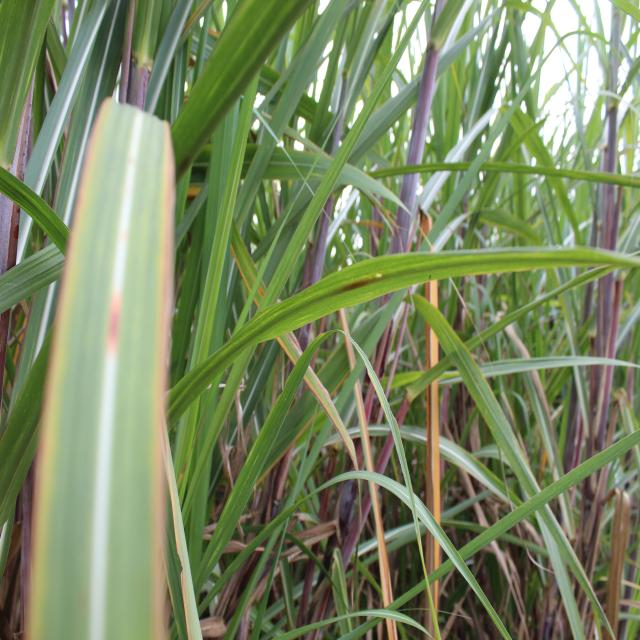Sugarcane: (165, 244, 640, 433), (171, 0, 323, 181), (0, 1, 60, 175)
